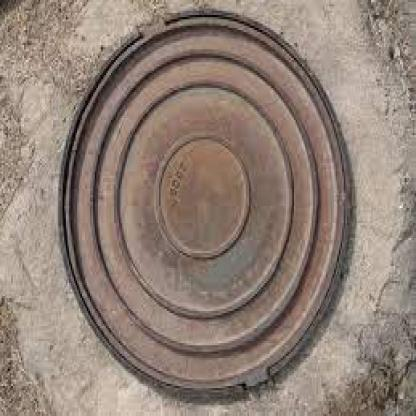closed manhole-not overflowing-: (46, 8, 362, 407)
